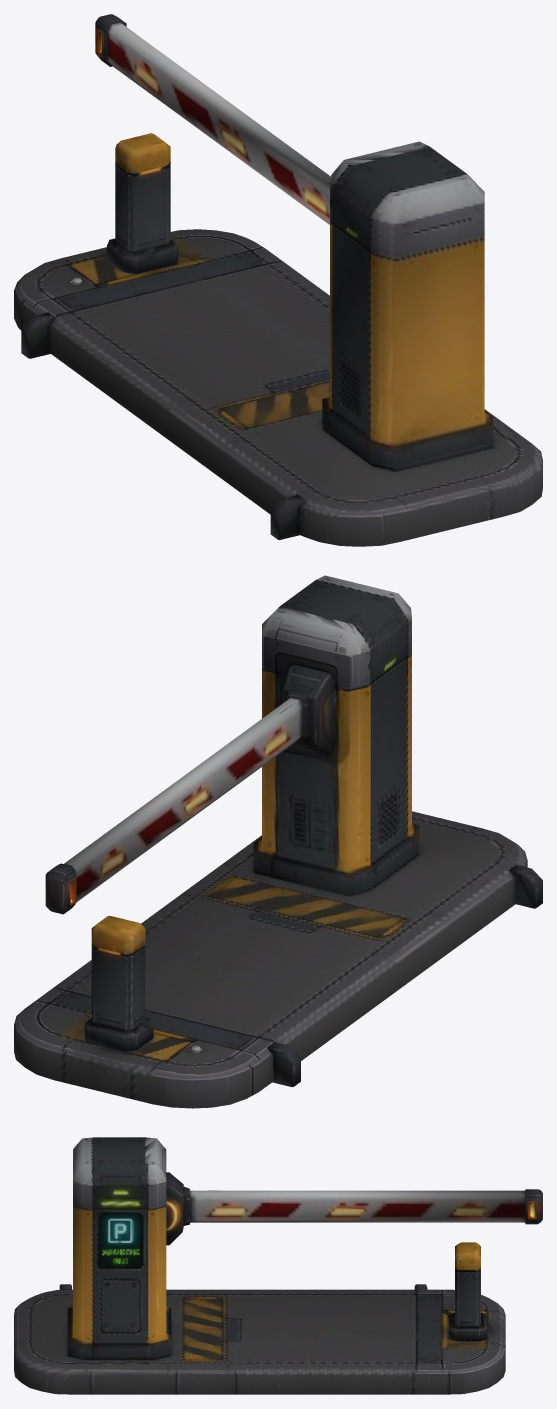
File: parking_barrier_01.glb
3 views of the same model, one above another, from view 1: azimuth 30°, elevation 25°; view 2: azimuth 150°, elevation 25°; view 3: azimuth 270°, elevation 25° (orthographic). The views are drawn at different scales.
Visible parts, largest first — view 1: tripo_node_5788ac34-d712-44ac-b1fd-28ca4c21c820; view 2: tripo_node_5788ac34-d712-44ac-b1fd-28ca4c21c820; view 3: tripo_node_5788ac34-d712-44ac-b1fd-28ca4c21c820.
Boxes of the visible parts, x1,y1,x2,y2 form: tripo_node_5788ac34-d712-44ac-b1fd-28ca4c21c820: (14, 14, 542, 546); tripo_node_5788ac34-d712-44ac-b1fd-28ca4c21c820: (14, 575, 542, 1108); tripo_node_5788ac34-d712-44ac-b1fd-28ca4c21c820: (14, 1137, 542, 1394).
Bounding box in the file's own units: 0.4043 × 0.4434 × 0.998.
Materials: 1 (1 with a texture image).
